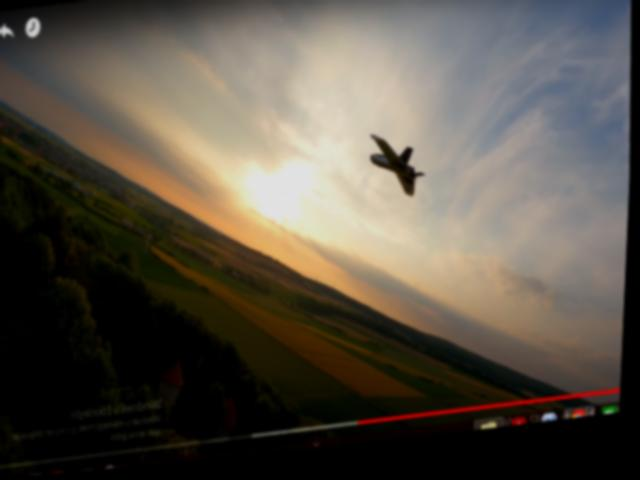plane: (369, 136, 428, 209)
